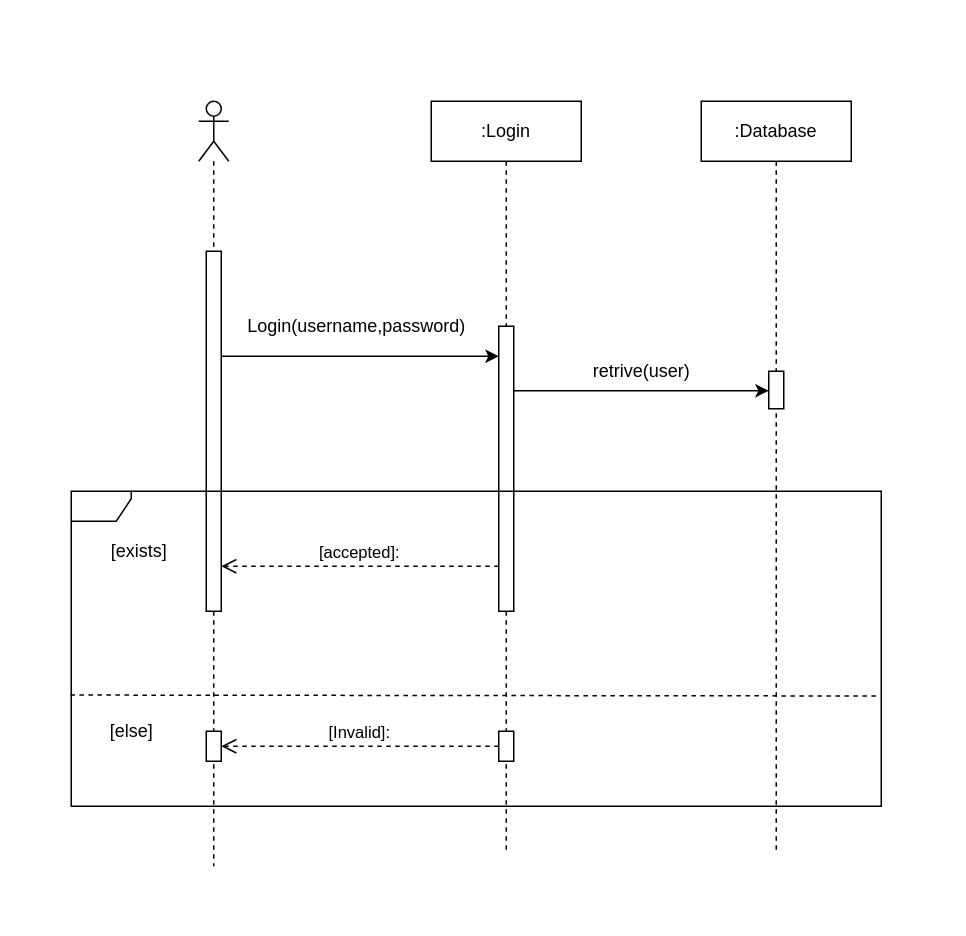
The diagram is 966 pixels wide and 936 high, and some of its shapes have lost their labels. Here are the shapes that lost their labels. From the top down, the box of each, then its label:
(197, 100, 229, 866): User
(70, 490, 881, 806): alt
